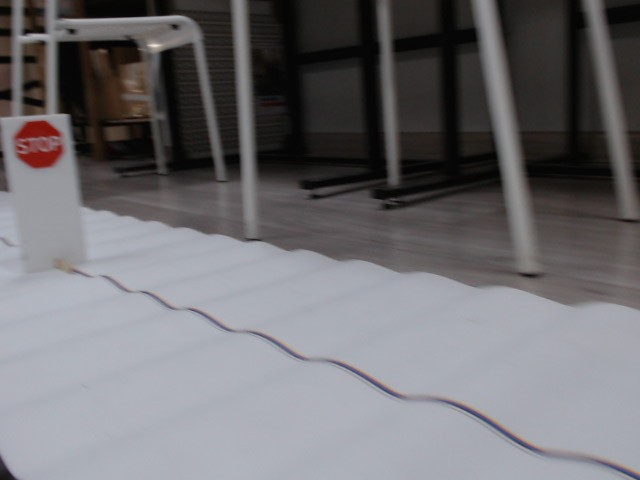Stop: (12, 120, 65, 171)
